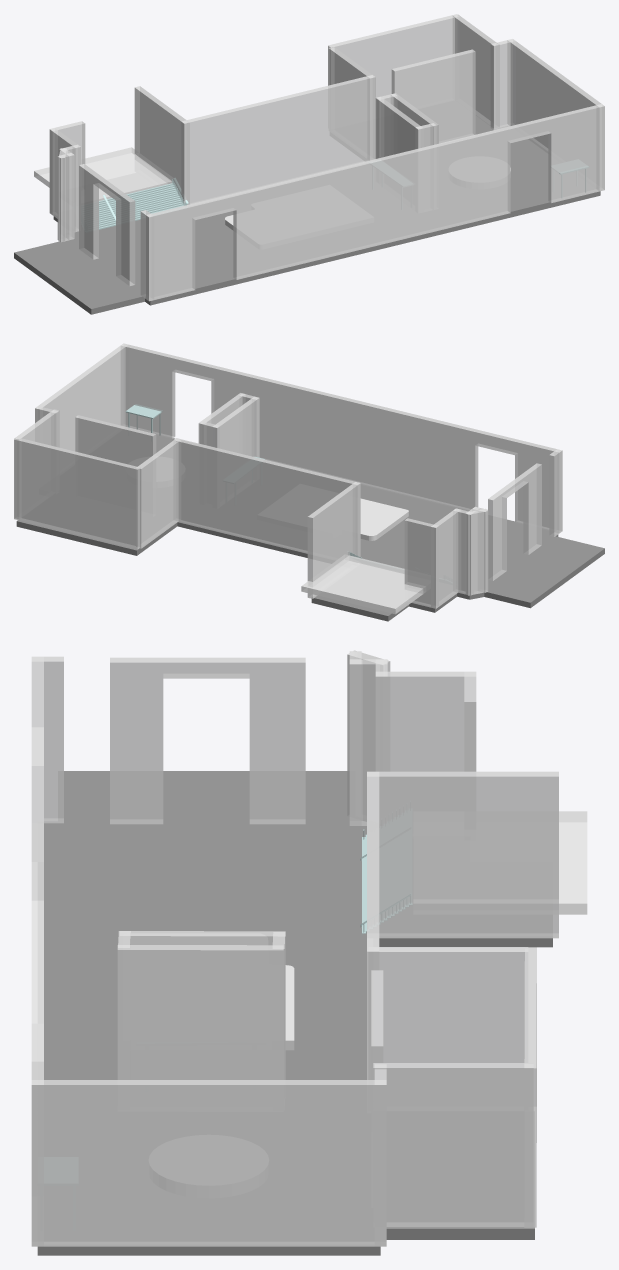
Rendered from sixthfloor.glb.
The picture shows the model from 3 angles, top to bottom: view 1: azimuth 30°, elevation 25°; view 2: azimuth 150°, elevation 25°; view 3: azimuth 270°, elevation 25°; orthographic projection. The views are drawn at different scales.
Visible parts, largest first — view 1: wall_79458473_B92D_4D6B_9BF5_1D9A8AC83BF6, wall_20F40086_77F6_4B9F_B1F3_7AF162817412, floor_CDFB015C_1192_4FF8_8B94_885ED0B93E95, wall_A36336CC_24F6_4801_A329_260E5FBA84FD, wall_557681BE_8C97_4F93_8CB7_FAF19025E00F, wall_DF0DCCF5_9021_4799_A23A_B968F3F4F356.003, wall_FC73E6F7_F2F7_4D3E_A2B3_EE8797E06D22, wall_32729076_4469_481A_9587_210A178E6E19, wall_DF0DCCF5_9021_4799_A23A_B968F3F4F356.002, wall_587AF2FB_2207_48C7_AFB6_B9E2E2C506E4, wall_17EC48A4_1D76_43F4_AD04_4B60F06F253C, wall_2A47F00F_C2EF_4A73_97A1_CD1D4018CD5B (+12 smaller); view 2: wall_79458473_B92D_4D6B_9BF5_1D9A8AC83BF6, wall_20F40086_77F6_4B9F_B1F3_7AF162817412, floor_CDFB015C_1192_4FF8_8B94_885ED0B93E95, wall_DF0DCCF5_9021_4799_A23A_B968F3F4F356.003, wall_A36336CC_24F6_4801_A329_260E5FBA84FD, wall_587AF2FB_2207_48C7_AFB6_B9E2E2C506E4, wall_FC73E6F7_F2F7_4D3E_A2B3_EE8797E06D22, wall_DF0DCCF5_9021_4799_A23A_B968F3F4F356.001, wall_32729076_4469_481A_9587_210A178E6E19, wall_557681BE_8C97_4F93_8CB7_FAF19025E00F, wall_39CDF5DB_C192_4480_8725_CDF045B4A958, wall_DB8737D2_9C52_4BB9_B9D7_7B73D76E22FB (+13 smaller); view 3: floor_CDFB015C_1192_4FF8_8B94_885ED0B93E95, wall_A36336CC_24F6_4801_A329_260E5FBA84FD, wall_FC73E6F7_F2F7_4D3E_A2B3_EE8797E06D22, wall_DF0DCCF5_9021_4799_A23A_B968F3F4F356.002, wall_1B9286BB_4C4B_4FA8_8E11_B799F3E4D2B9, wall_32729076_4469_481A_9587_210A178E6E19, wall_DF0DCCF5_9021_4799_A23A_B968F3F4F356.001, wall_DB8737D2_9C52_4BB9_B9D7_7B73D76E22FB, wall_79458473_B92D_4D6B_9BF5_1D9A8AC83BF6, wall_587AF2FB_2207_48C7_AFB6_B9E2E2C506E4, wall_3152C9F0_7C46_4412_B522_BD7363980CC8, wall_FECECFAC_D531_4E41_87A8_B63160BD0368 (+12 smaller).
Part boxes in pixels (box(x1,y1,x2,y2)): wall_79458473_B92D_4D6B_9BF5_1D9A8AC83BF6: box(146, 104, 604, 301); wall_20F40086_77F6_4B9F_B1F3_7AF162817412: box(181, 75, 375, 204); floor_CDFB015C_1192_4FF8_8B94_885ED0B93E95: box(14, 115, 600, 314); wall_A36336CC_24F6_4801_A329_260E5FBA84FD: box(507, 39, 604, 191); wall_557681BE_8C97_4F93_8CB7_FAF19025E00F: box(391, 49, 475, 143); wall_DF0DCCF5_9021_4799_A23A_B968F3F4F356.003: box(328, 14, 459, 97); wall_FC73E6F7_F2F7_4D3E_A2B3_EE8797E06D22: box(134, 86, 189, 204); wall_32729076_4469_481A_9587_210A178E6E19: box(79, 164, 135, 285); wall_DF0DCCF5_9021_4799_A23A_B968F3F4F356.002: box(453, 14, 499, 128); wall_587AF2FB_2207_48C7_AFB6_B9E2E2C506E4: box(34, 147, 173, 200); wall_17EC48A4_1D76_43F4_AD04_4B60F06F253C: box(490, 39, 515, 130); wall_2A47F00F_C2EF_4A73_97A1_CD1D4018CD5B: box(375, 96, 423, 158); wall_79458473_B92D_4D6B_9BF5_1D9A8AC83BF6: box(121, 343, 562, 532); wall_20F40086_77F6_4B9F_B1F3_7AF162817412: box(173, 438, 360, 556); floor_CDFB015C_1192_4FF8_8B94_885ED0B93E95: box(16, 435, 604, 621); wall_DF0DCCF5_9021_4799_A23A_B968F3F4F356.003: box(14, 437, 140, 549); wall_A36336CC_24F6_4801_A329_260E5FBA84FD: box(35, 343, 128, 451); wall_587AF2FB_2207_48C7_AFB6_B9E2E2C506E4: box(301, 554, 426, 614); wall_FC73E6F7_F2F7_4D3E_A2B3_EE8797E06D22: box(307, 482, 360, 598); wall_DF0DCCF5_9021_4799_A23A_B968F3F4F356.001: box(136, 439, 180, 548); wall_32729076_4469_481A_9587_210A178E6E19: box(488, 463, 541, 580); wall_557681BE_8C97_4F93_8CB7_FAF19025E00F: box(75, 415, 156, 466); wall_39CDF5DB_C192_4480_8725_CDF045B4A958: box(404, 518, 438, 608); wall_DB8737D2_9C52_4BB9_B9D7_7B73D76E22FB: box(431, 509, 460, 608); floor_CDFB015C_1192_4FF8_8B94_885ED0B93E95: box(37, 771, 552, 1255); wall_A36336CC_24F6_4801_A329_260E5FBA84FD: box(31, 1080, 386, 1246); wall_FC73E6F7_F2F7_4D3E_A2B3_EE8797E06D22: box(367, 771, 558, 938); wall_DF0DCCF5_9021_4799_A23A_B968F3F4F356.002: box(373, 1063, 533, 1227); wall_1B9286BB_4C4B_4FA8_8E11_B799F3E4D2B9: box(117, 945, 283, 1079); wall_32729076_4469_481A_9587_210A178E6E19: box(110, 657, 305, 824); wall_DF0DCCF5_9021_4799_A23A_B968F3F4F356.001: box(368, 947, 527, 1079); wall_DB8737D2_9C52_4BB9_B9D7_7B73D76E22FB: box(375, 671, 476, 771); wall_79458473_B92D_4D6B_9BF5_1D9A8AC83BF6: box(31, 657, 43, 1246); wall_587AF2FB_2207_48C7_AFB6_B9E2E2C506E4: box(413, 811, 587, 914); wall_3152C9F0_7C46_4412_B522_BD7363980CC8: box(31, 656, 63, 823); wall_FECECFAC_D531_4E41_87A8_B63160BD0368: box(349, 659, 387, 825).
Bounding box in the file's own units: 18.67 × 3.19 × 9.2.
